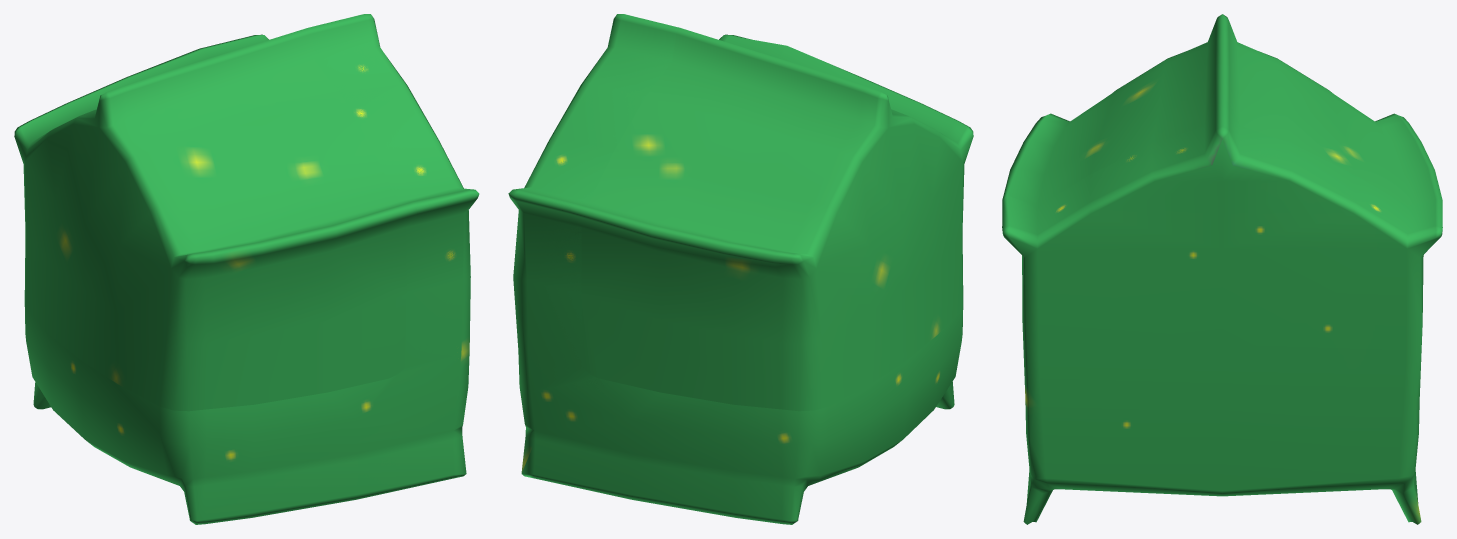
3 renders of one model, left to right at view 1: azimuth 30°, elevation 25°; view 2: azimuth 150°, elevation 25°; view 3: azimuth 270°, elevation 25°, orthographic.
Parts seen in each view (by area): view 1: Vo_ngoai, Cell_wall; view 2: Vo_ngoai, Cell_wall; view 3: Vo_ngoai, Cell_wall.
Part boxes in pixels (x1=…): Vo_ngoai: x1=14, y1=14, x2=479, y2=512; Cell_wall: x1=24, y1=14, x2=473, y2=524; Vo_ngoai: x1=508, y1=14, x2=973, y2=512; Cell_wall: x1=513, y1=14, x2=963, y2=524; Vo_ngoai: x1=1002, y1=14, x2=1442, y2=524; Cell_wall: x1=1002, y1=99, x2=1442, y2=503.
Bounding box in the file's own units: 104 × 133 × 133.
